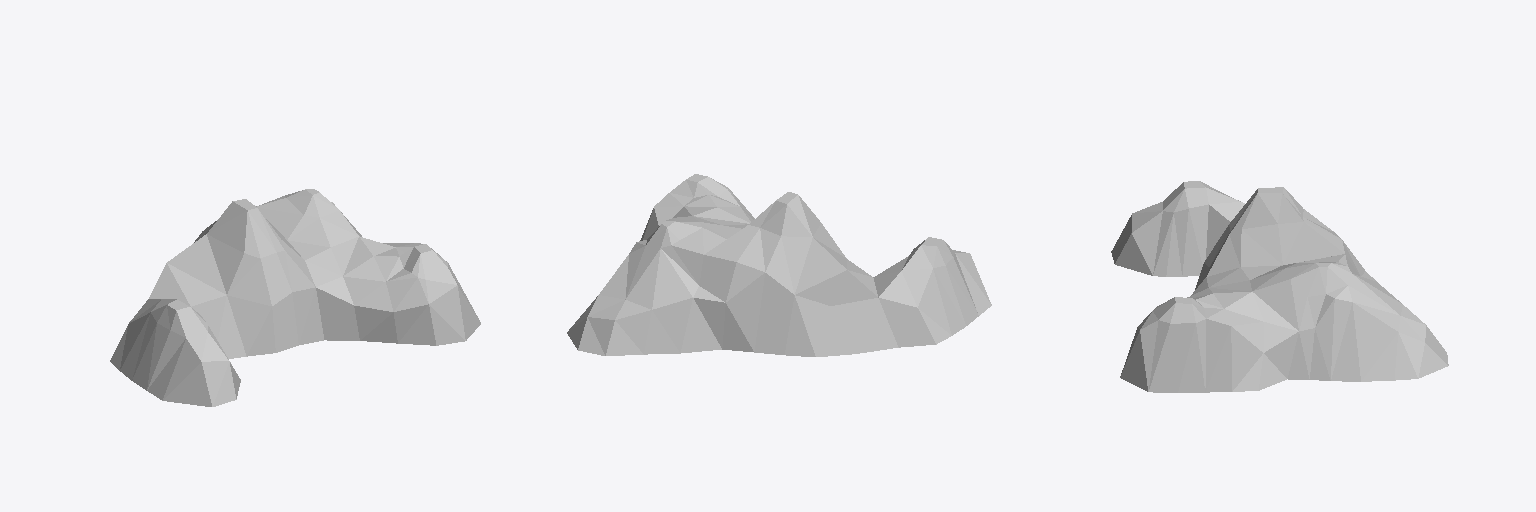
The model's file is SM_Env_Hills_03.obj.
3 views of the same model, side by side, from view 1: azimuth 30°, elevation 25°; view 2: azimuth 150°, elevation 25°; view 3: azimuth 270°, elevation 25° (orthographic).
Parts seen in each view (by area): view 1: SM_Env_Hills_03:Mesh; view 2: SM_Env_Hills_03:Mesh; view 3: SM_Env_Hills_03:Mesh.
Part boxes in pixels (x1,y1,x2,y2): SM_Env_Hills_03:Mesh: (110,189,480,406); SM_Env_Hills_03:Mesh: (567,174,991,356); SM_Env_Hills_03:Mesh: (1111,181,1448,392).
Size of the model in its own units: 31.77 by 11.01 by 28.8.